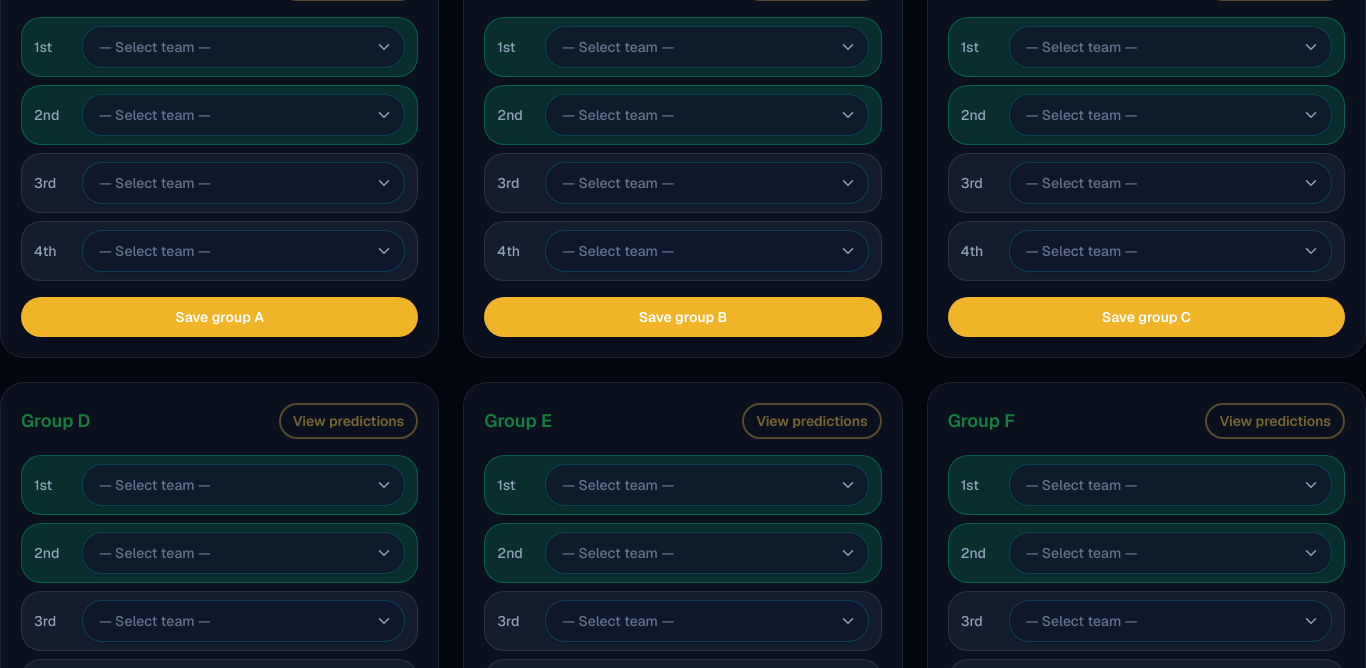
Scenario: Groups page › shows error when saving a group without all four positions
The image size is (1366, 668).
(page scrolled)
Click the button "Save group A" at (220, 317), box [21,297,418,337]
(page scrolled)
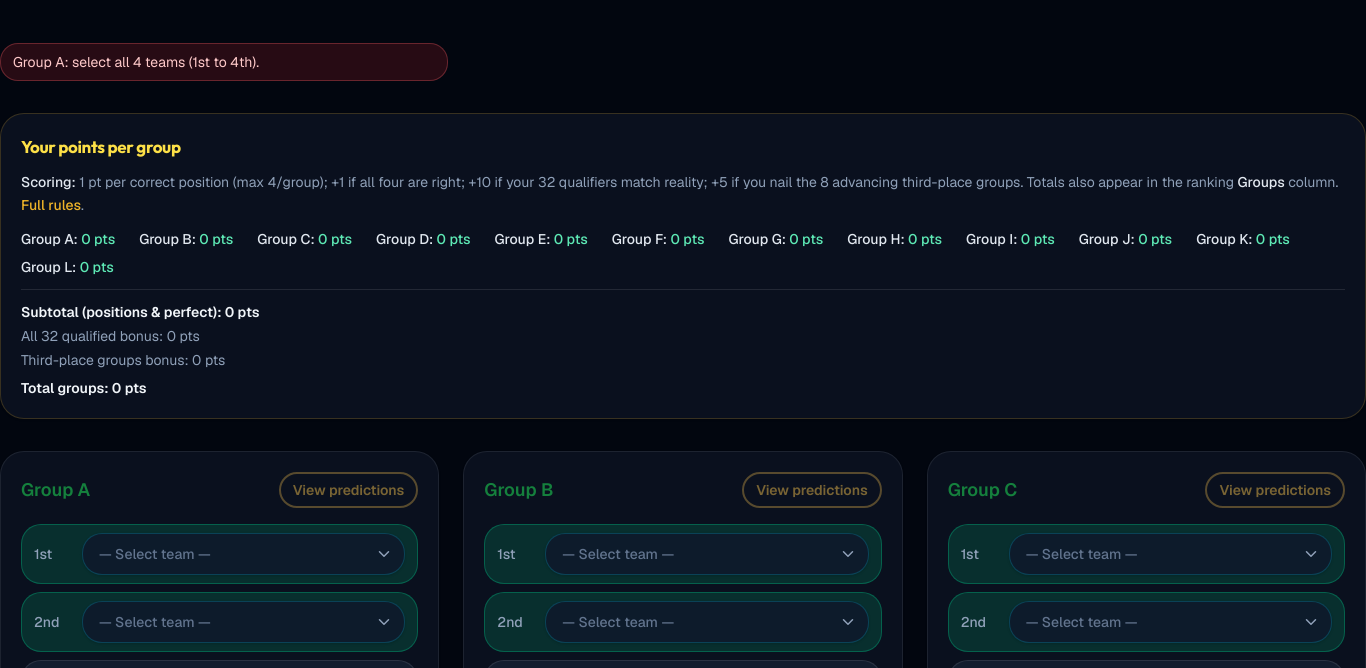
Expected: the text "Group A: select all 4 teams (1st to 4th)." is shown, [0,43,448,81]
